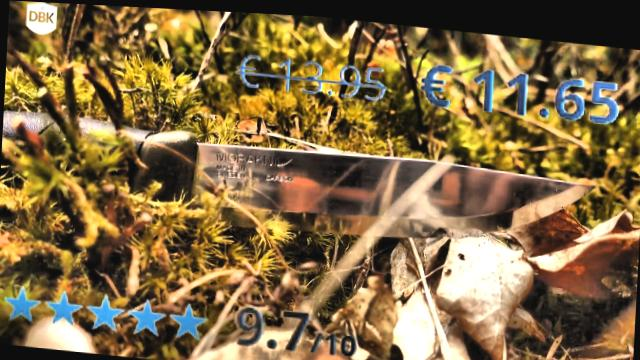knife: (148, 121, 610, 250)
